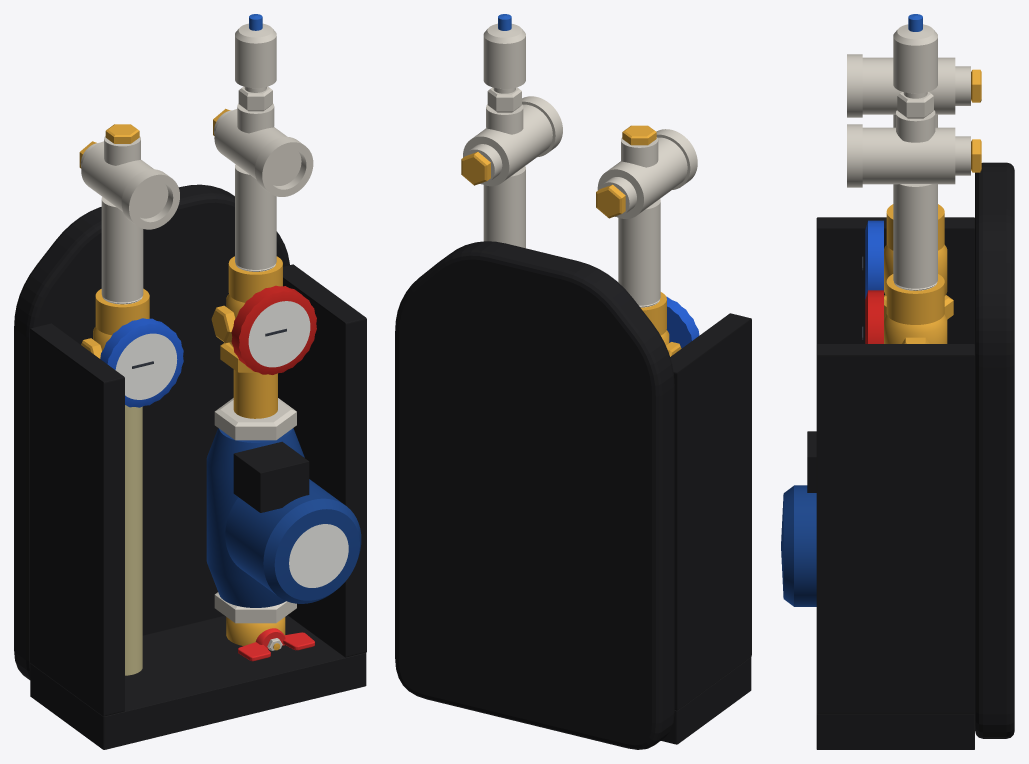
The model's file is pump_group_sdg0001_direct.glb.
The picture shows the model from 3 angles, left to right: view 1: azimuth 30°, elevation 25°; view 2: azimuth 150°, elevation 25°; view 3: azimuth 270°, elevation 25°; orthographic projection. The views are drawn at different scales.
Parts seen in each view (by area): view 1: кожух задняя, кожух щека, кожух дно, кожух щека.001, мотор, корпус насоса, вставка обратки, клеммная коробка, патрубок, патрубок.001, шкала.001, шкала (+18 smaller); view 2: кожух задняя, кожух щека, патрубок, корпус МУ.001, корпус МУ, кожух дно, патрубок.001, воздухоотводчик, кольцо термометра, отвод вверх.001, отвод вверх, устье 1 ВР (+5 smaller); view 3: кожух щека.001, кожух задняя, кожух щека, кожух дно, корпус МУ.001, патрубок.001, мотор, корпус МУ, воздухоотводчик, гнездо Rp1.001, кольцо термометра, корпус крана.001 (+10 smaller).
Part boxes in pixels (left/top/right/bottom): кожух задняя: left=14, top=184, right=289, bottom=679; кожух щека: left=30, top=323, right=124, bottom=716; кожух дно: left=30, top=615, right=366, bottom=749; кожух щека.001: left=278, top=264, right=366, bottom=657; мотор: left=225, top=479, right=361, bottom=603; корпус насоса: left=206, top=428, right=304, bottom=607; вставка обратки: left=125, top=405, right=142, bottom=675; клеммная коробка: left=233, top=441, right=309, bottom=512; патрубок: left=101, top=197, right=143, bottom=302; патрубок.001: left=235, top=164, right=276, bottom=269; шкала.001: left=248, top=301, right=310, bottom=367; шкала: left=115, top=333, right=177, bottom=399; кожух задняя: left=395, top=241, right=674, bottom=749; кожух щека: left=670, top=313, right=751, bottom=710; патрубок: left=618, top=199, right=660, bottom=305; корпус МУ.001: left=463, top=104, right=552, bottom=186; корпус МУ: left=597, top=137, right=687, bottom=218; кожух дно: left=661, top=657, right=751, bottom=744; патрубок.001: left=483, top=166, right=525, bottom=248; воздухоотводчик: left=483, top=23, right=525, bottom=93; кольцо термометра: left=666, top=296, right=699, bottom=348; отвод вверх.001: left=486, top=104, right=523, bottom=134; отвод вверх: left=621, top=137, right=658, bottom=167; устье 1 ВР: left=656, top=129, right=697, bottom=189; кожух щека.001: left=816, top=344, right=974, bottom=714; кожух задняя: left=975, top=162, right=1014, bottom=738; кожух щека: left=816, top=217, right=974, bottom=344; кожух дно: left=816, top=714, right=974, bottom=749; корпус МУ.001: left=862, top=127, right=955, bottom=184; патрубок.001: left=893, top=184, right=937, bottom=288; мотор: left=781, top=485, right=816, bottom=606; корпус МУ: left=862, top=57, right=955, bottom=114; воздухоотводчик: left=893, top=24, right=937, bottom=98; гнездо Rp1.001: left=886, top=274, right=944, bottom=324; кольцо термометра: left=865, top=220, right=883, bottom=298; корпус крана.001: left=884, top=314, right=947, bottom=343.
Size of the model in its own units: 0.247 by 0.601 by 0.1775.
